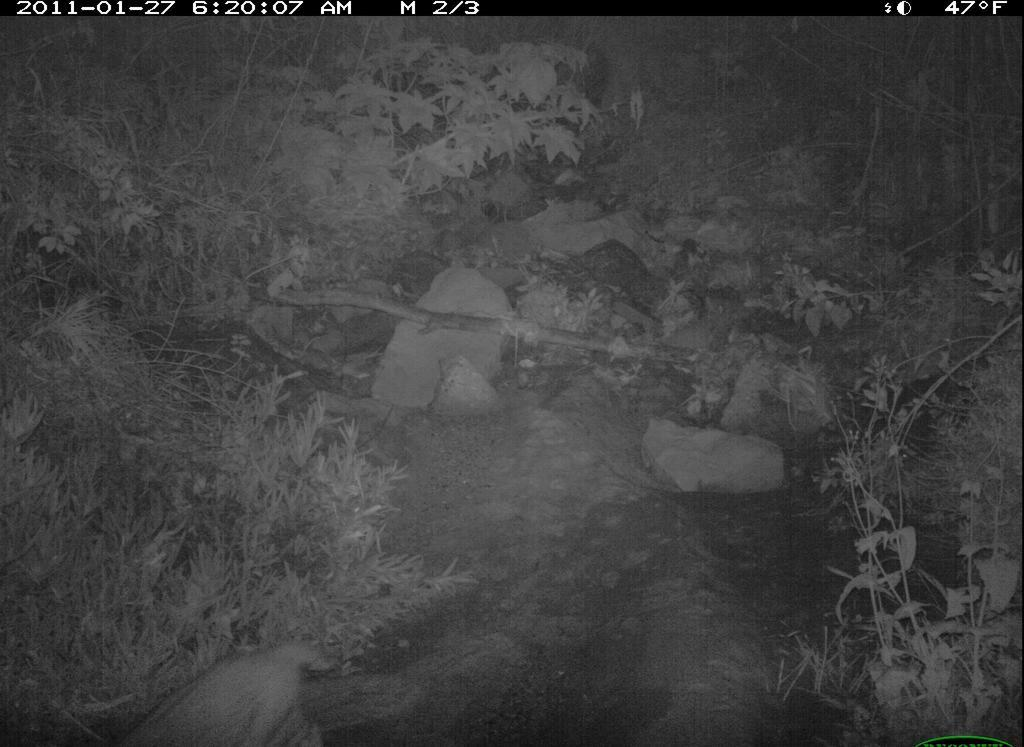bobcat: (112, 638, 338, 747)
